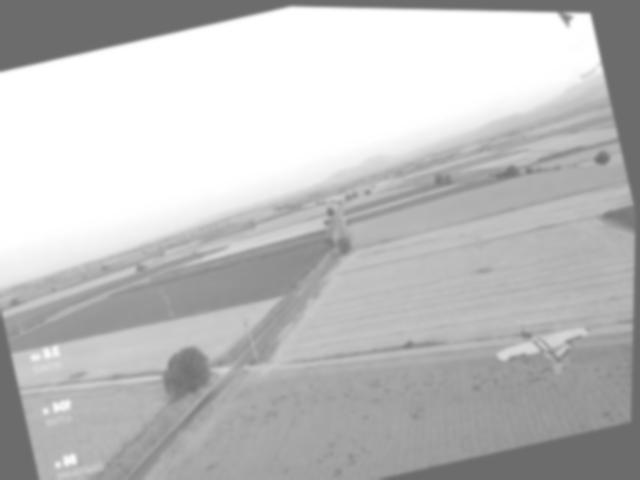hedef: (485, 305, 605, 395)
